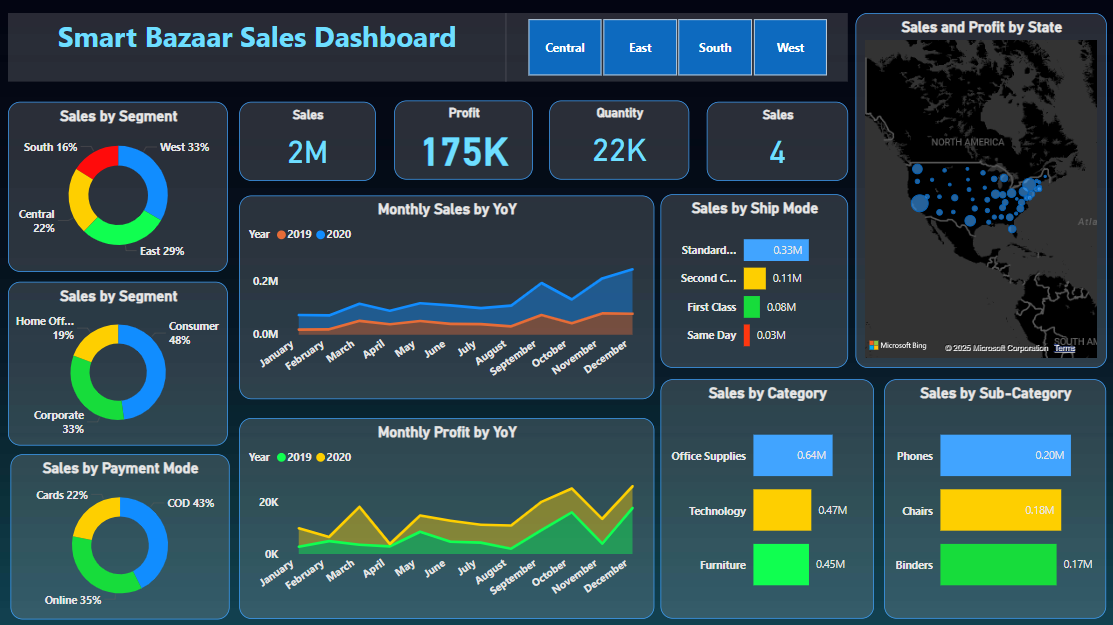

The dashboard page shown, as its layout file describes it:
{"tool":"powerbi","page":{"name":"Page 1","canvas":[1280,720],"ordinal":0},"visuals":[{"type":"clusteredBarChart","title":"Sales by Category","fields":{"Category":["SuperStore_Sales_Dataset.Category"],"Y":["Sum(SuperStore_Sales_Dataset.Sales)"]},"box":[757.6,435.5,243.7,273.9],"z":0},{"type":"clusteredBarChart","title":"Sales by Sub-Category","fields":{"Category":["SuperStore_Sales_Dataset.Sub-Category"],"Y":["Sum(SuperStore_Sales_Dataset.Sales)"]},"box":[1013.4,435.5,253.4,273.9],"z":1000},{"type":"clusteredBarChart","title":"Sales by Ship Mode","fields":{"Category":["SuperStore_Sales_Dataset.Ship Mode"],"Y":["Sum(SuperStore_Sales_Dataset.Sales)"]},"box":[757.1,224.3,214.3,198.6],"z":2000},{"type":"stackedAreaChart","title":"Monthly Sales by YoY","fields":{"Y":["Sum(SuperStore_Sales_Dataset.Sales)"],"Category":["SuperStore_Sales_Dataset.Order Date.Variation.Date Hierarchy.Month","SuperStore_Sales_Dataset.Order Date.Variation.Date Hierarchy.Day"],"Series":["SuperStore_Sales_Dataset.Order Date.Variation.Date Hierarchy.Year"]},"box":[276.3,225.6,474.1,232.8],"z":3000},{"type":"stackedAreaChart","title":"Monthly Profit by YoY","fields":{"Category":["SuperStore_Sales_Dataset.Order Date.Variation.Date Hierarchy.Month","SuperStore_Sales_Dataset.Order Date.Variation.Date Hierarchy.Day"],"Series":["SuperStore_Sales_Dataset.Order Date.Variation.Date Hierarchy.Year"],"Y":["Sum(SuperStore_Sales_Dataset.Profit)"]},"box":[276.3,480.2,474.1,229.2],"z":4000},{"type":"map","title":"Sales and Profit by State","fields":{"Category":["SuperStore_Sales_Dataset.State"],"Size":["Sum(SuperStore_Sales_Dataset.Sales)"]},"box":[979.6,16.9,287.1,405.4],"z":5000},{"type":"donutChart","title":"Sales by Segment","fields":{"Category":["SuperStore_Sales_Dataset.Segment"],"Y":["Sum(SuperStore_Sales_Dataset.Sales)"]},"box":[11.4,324.3,251.4,187.1],"z":6000},{"type":"donutChart","title":"Sales by Payment Mode","fields":{"Y":["Sum(SuperStore_Sales_Dataset.Sales)"],"Category":["SuperStore_Sales_Dataset.Payment Mode"]},"box":[14.3,521.4,250,188.6],"z":7000},{"type":"slicer","fields":{"Values":["SuperStore_Sales_Dataset.Region"]},"box":[580.3,16.9,390.9,78.4],"z":8000},{"type":"textbox","box":[10.9,16.9,569.4,78.4],"z":9000},{"type":"card","title":"Sales","fields":{"Values":["Sum(SuperStore_Sales_Dataset.Sales)"]},"box":[275.7,118.6,155.7,90],"z":10000},{"type":"card","title":"Profit","fields":{"Values":["Sum(SuperStore_Sales_Dataset.Profit)"]},"box":[452.9,117.1,158.6,90],"z":11000},{"type":"card","title":"Quantity","fields":{"Values":["Sum(SuperStore_Sales_Dataset.Quantity)"]},"box":[630,117.1,160,90],"z":12000},{"type":"card","title":"Sales","fields":{"Values":["Avg(SuperStore_Sales_Dataset.AvgDelivery)"]},"box":[810,118.6,161.4,90],"z":13000},{"type":"donutChart","title":"Sales by Segment","fields":{"Category":["SuperStore_Sales_Dataset.Region"],"Y":["Sum(SuperStore_Sales_Dataset.Sales)"]},"box":[11.4,118.6,251.4,194.3],"z":14000}]}

Visuals, with their boxes in screenshot pixels (x1, y1, x2, y2), scaled from the page's 1280x720 canvas onto the 1113x625 screenshot:
"Sales by Category" clusteredBarChart: select_region(659, 378, 871, 616)
"Sales by Sub-Category" clusteredBarChart: select_region(881, 378, 1102, 616)
"Sales by Ship Mode" clusteredBarChart: select_region(658, 195, 845, 367)
"Monthly Sales by YoY" stackedAreaChart: select_region(240, 196, 652, 398)
"Monthly Profit by YoY" stackedAreaChart: select_region(240, 417, 652, 616)
"Sales and Profit by State" map: select_region(852, 15, 1101, 367)
"Sales by Segment" donutChart: select_region(10, 282, 229, 444)
"Sales by Payment Mode" donutChart: select_region(12, 453, 230, 616)
slicer - SuperStore_Sales_Dataset.Region: select_region(505, 15, 844, 83)
textbox: select_region(9, 15, 505, 83)
"Sales" card: select_region(240, 103, 375, 181)
"Profit" card: select_region(394, 102, 532, 180)
"Quantity" card: select_region(548, 102, 687, 180)
"Sales" card: select_region(704, 103, 845, 181)
"Sales by Segment" donutChart: select_region(10, 103, 229, 272)
